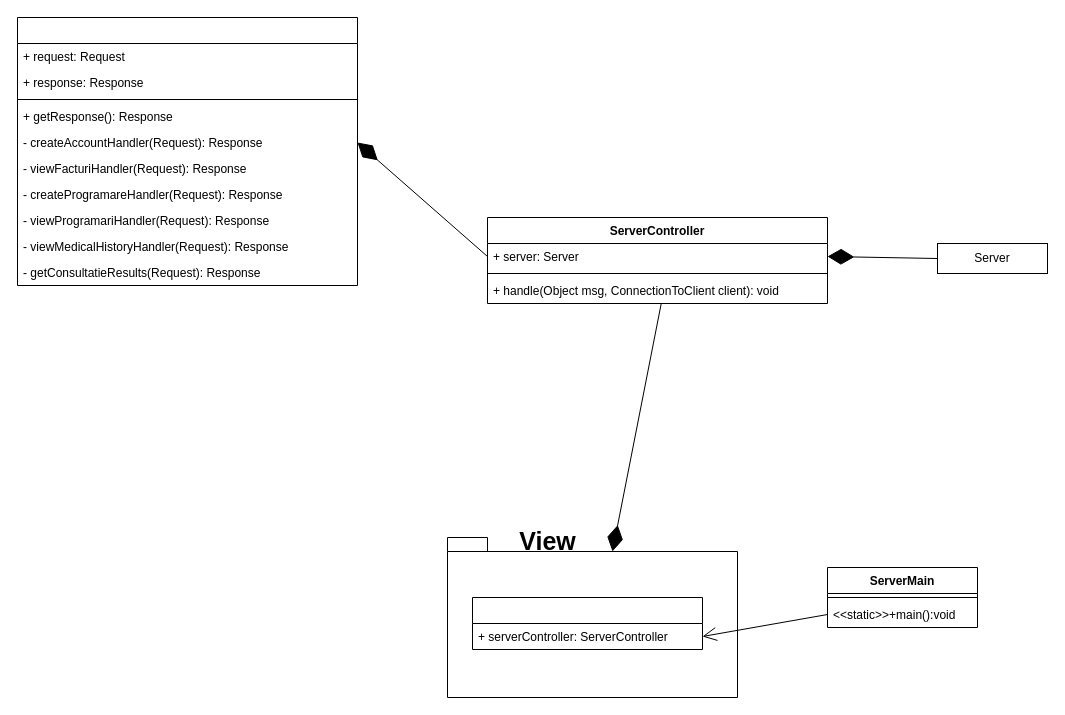
Some shapes in this 1065 by 715 pixel diagram are drawn without their labels. The shapes that lost their labels are listed below. From the top down, each one's box as (x1, y1, x2, y2) in pixels, then its label:
(16, 16, 358, 286): PacientHandler
(472, 596, 702, 650): ServerConsole
